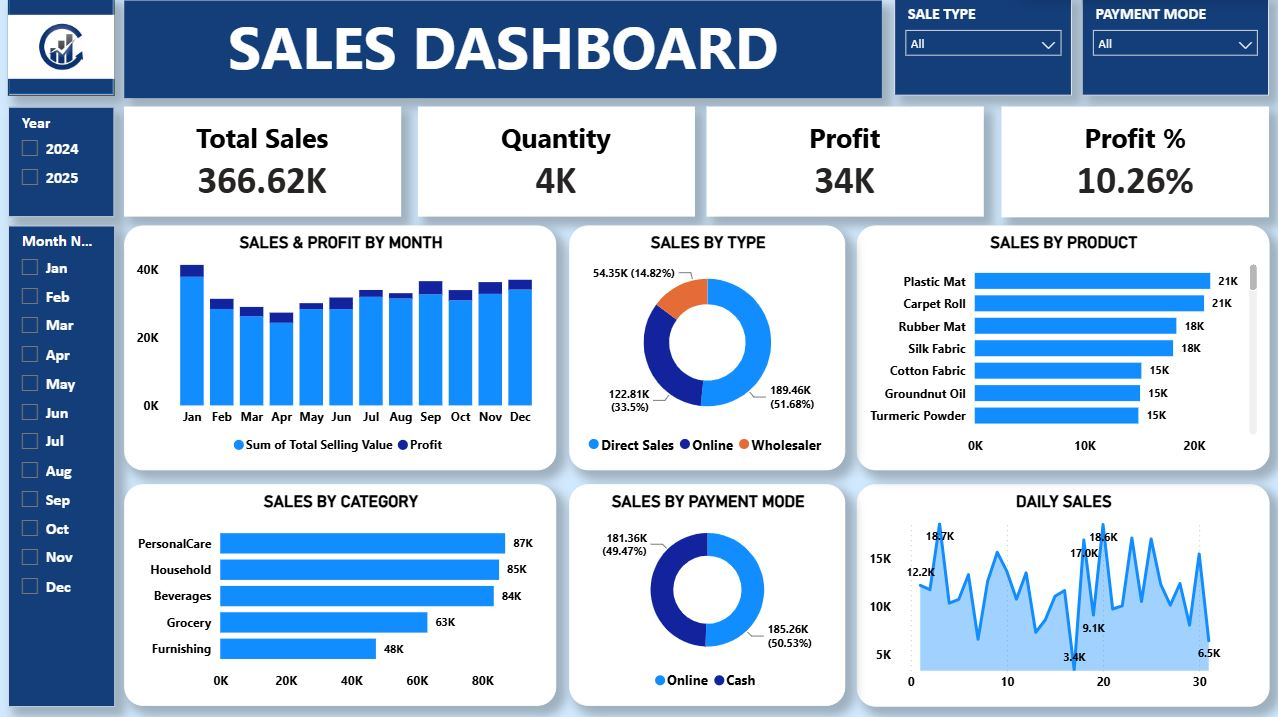

Layout of this report page (visuals, bound fields, positions):
{"tool":"powerbi","page":{"name":"Page 1","canvas":[1280,720],"ordinal":0},"visuals":[{"type":"shape","box":[10,0,106.2,97.5],"z":0},{"type":"textbox","box":[126.2,2.5,757.5,97.5],"z":1000},{"type":"slicer","fields":{"Values":["InputData.Year"]},"box":[10,108.8,106.2,110],"z":2000},{"type":"slicer","fields":{"Values":["InputData.Month Name"]},"box":[10,227.5,107.5,481.2],"z":3000},{"type":"slicer","fields":{"Values":["InputData.SALE TYPE"]},"box":[896.5,0,177.7,97.6],"z":4000},{"type":"slicer","fields":{"Values":["InputData.PAYMENT MODE"]},"box":[1083.6,0,187.2,97.6],"z":5000},{"type":"cardVisual","fields":{"Data":["Sum(InputData.Total Selling Value)"]},"box":[126.1,108.5,276.7,109.9],"z":6000},{"type":"cardVisual","fields":{"Data":["Sum(InputData.QUANTITY)"]},"box":[420.4,108.5,276.7,109.9],"z":7000},{"type":"cardVisual","fields":{"Data":["InputData.Profit"]},"box":[709.3,108.5,276.7,109.9],"z":8000},{"type":"cardVisual","fields":{"Data":["InputData.Profit %"]},"box":[1003.8,108.8,267.5,110],"z":9000},{"type":"columnChart","title":"SALES & PROFIT BY MONTH","fields":{"Y":["Sum(InputData.Total Selling Value)","InputData.Profit"],"Category":["InputData.Month Name"]},"box":[126.7,228,431.9,244.9],"z":10000},{"type":"areaChart","title":"DAILY SALES","fields":{"Category":["InputData.Day"],"Y":["Sum(InputData.Total Selling Value)"]},"box":[858.8,486.2,412.5,222.5],"z":11000},{"type":"clusteredBarChart","title":"SALES BY PRODUCT","fields":{"Category":["InputData.MasterData.PRODUCT"],"Y":["Sum(InputData.Total Selling Value)"]},"box":[858.8,227.5,412.5,245],"z":12000},{"type":"donutChart","title":"SALES BY TYPE","fields":{"Y":["Sum(InputData.Total Selling Value)"],"Category":["InputData.SALE TYPE"]},"box":[571.9,228,276.3,244.9],"z":13000},{"type":"clusteredBarChart","title":"SALES BY CATEGORY","fields":{"Y":["Sum(InputData.Total Selling Value)"],"Category":["InputData.MasterData.CATEGORY"]},"box":[126.7,486.2,431.9,222],"z":14000},{"type":"donutChart","title":"SALES BY PAYMENT MODE","fields":{"Y":["Sum(InputData.Total Selling Value)"],"Category":["InputData.PAYMENT MODE"]},"box":[571.9,486.2,276.3,222],"z":15000},{"type":"image","box":[10,0,106.2,97.5],"z":15001}]}

Visuals, with their boxes in screenshot pixels (x1, y1, x2, y2), scaled from the page's 1280x720 canvas onto the 1278x717 screenshot:
shape: (x1=10, y1=0, x2=116, y2=97)
textbox: (x1=126, y1=2, x2=882, y2=100)
slicer - InputData.Year: (x1=10, y1=108, x2=116, y2=218)
slicer - InputData.Month Name: (x1=10, y1=227, x2=117, y2=706)
slicer - InputData.SALE TYPE: (x1=895, y1=0, x2=1073, y2=97)
slicer - InputData.PAYMENT MODE: (x1=1082, y1=0, x2=1269, y2=97)
cardVisual - Sum(InputData.Total Selling Value): (x1=126, y1=108, x2=402, y2=217)
cardVisual - Sum(InputData.QUANTITY): (x1=420, y1=108, x2=696, y2=217)
cardVisual - InputData.Profit: (x1=708, y1=108, x2=984, y2=217)
cardVisual - InputData.Profit %: (x1=1002, y1=108, x2=1269, y2=218)
"SALES & PROFIT BY MONTH" columnChart: (x1=127, y1=227, x2=558, y2=471)
"DAILY SALES" areaChart: (x1=857, y1=484, x2=1269, y2=706)
"SALES BY PRODUCT" clusteredBarChart: (x1=857, y1=227, x2=1269, y2=471)
"SALES BY TYPE" donutChart: (x1=571, y1=227, x2=847, y2=471)
"SALES BY CATEGORY" clusteredBarChart: (x1=127, y1=484, x2=558, y2=705)
"SALES BY PAYMENT MODE" donutChart: (x1=571, y1=484, x2=847, y2=705)
image: (x1=10, y1=0, x2=116, y2=97)
